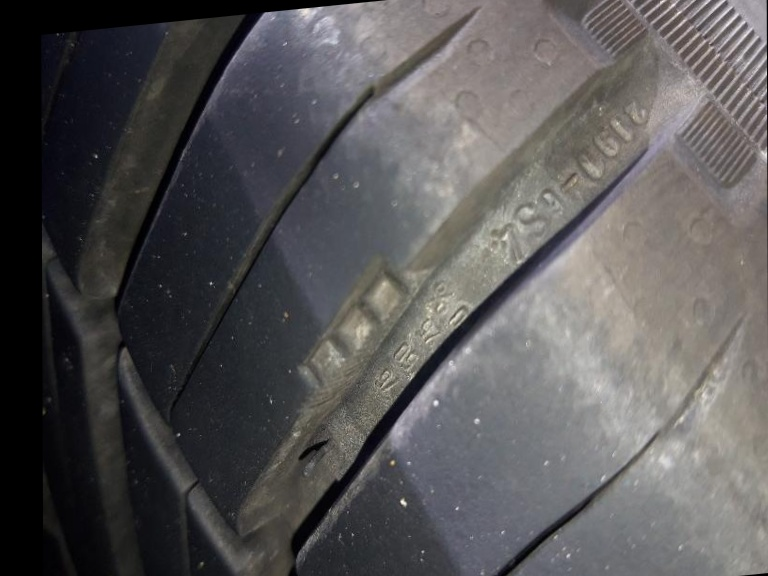temoin:90: (286, 243, 442, 424)
